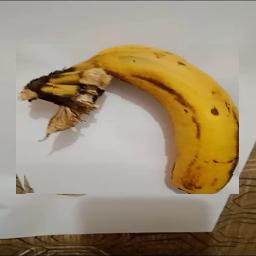Banana Semifresh: (17, 45, 240, 195)
